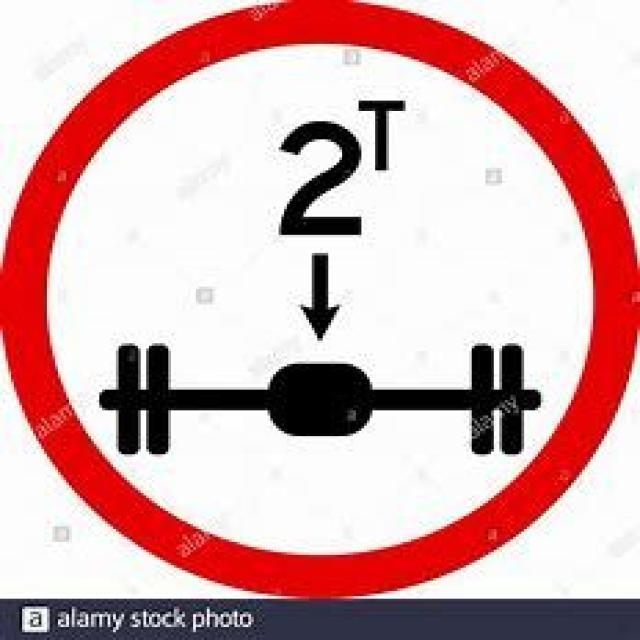axle load limit: (12, 12, 628, 591)
